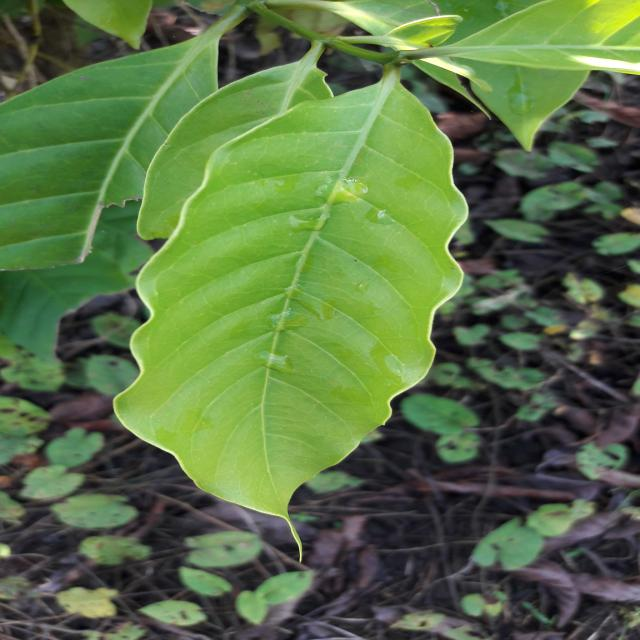Sanas: (112, 74, 469, 521)
